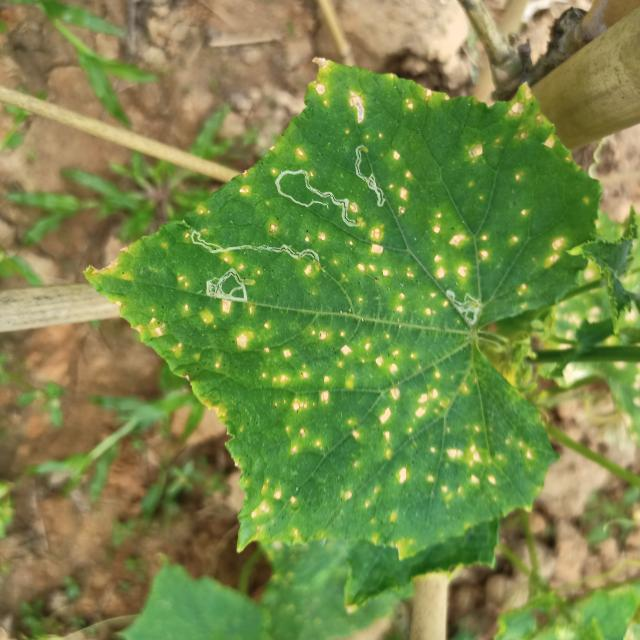disease_cucumber: (121, 297, 534, 548), (177, 56, 563, 298)
